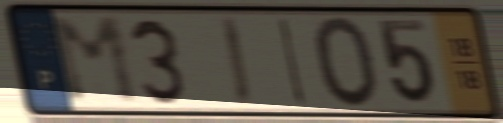3: (125, 14, 190, 109)
5: (372, 17, 439, 109)
I: (216, 14, 257, 109), (276, 15, 310, 109)
M: (45, 13, 146, 108)
O: (311, 13, 383, 112)
